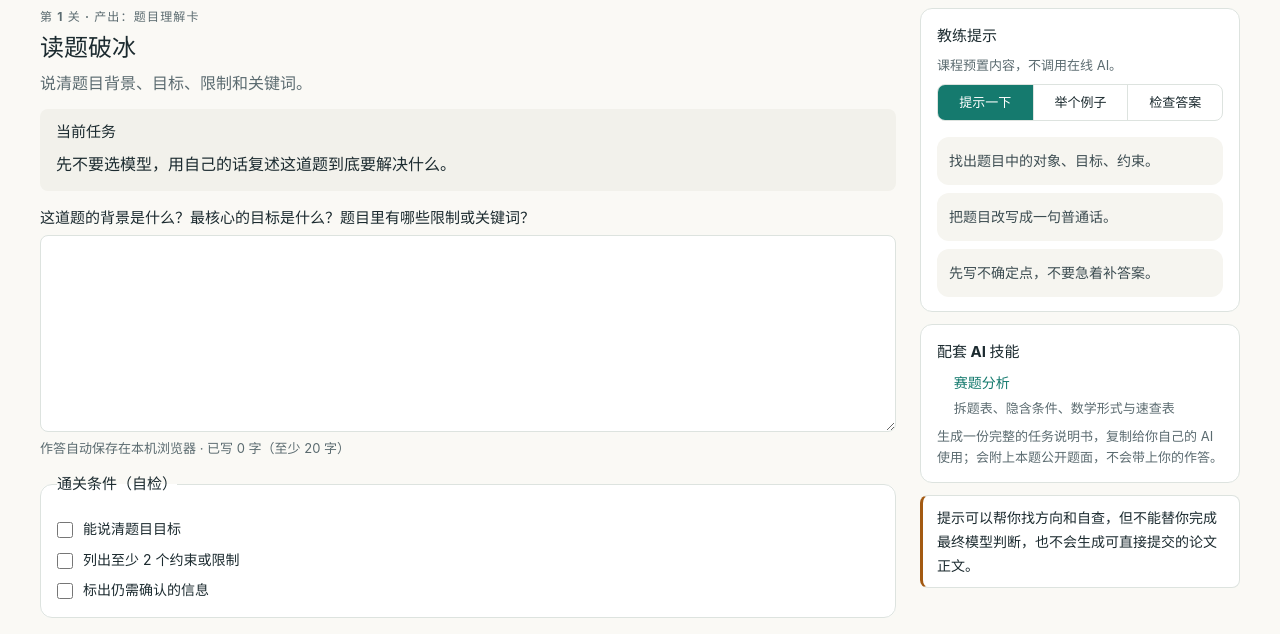
Test: 七关实战 batch 3 › walks one stage end to end: answer, self-check, confirm, move on
(page scrolled)
Type "目标是预测各区域需求并在车辆总数约束下调度；约束有总车数和运营成本；还需确认时间粒度。" into the text box at (468, 334), box left=40, top=235, right=896, bottom=432
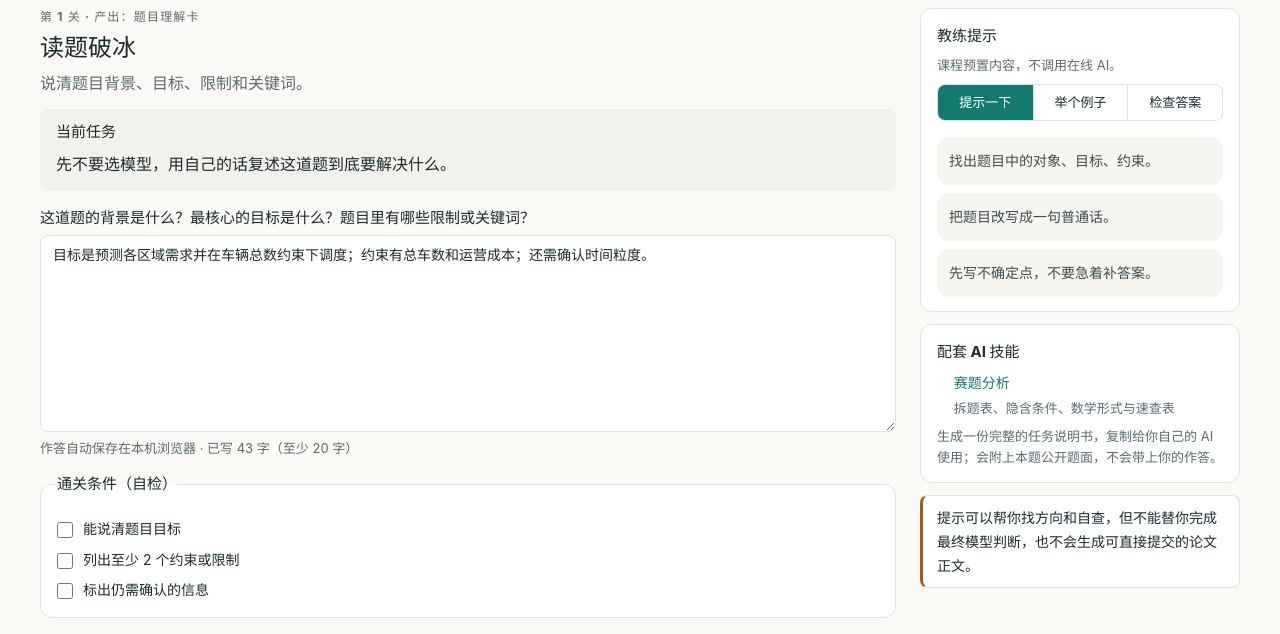
Click the checkbox labelled "能说清题目目标" at (65, 530), box left=57, top=522, right=73, bottom=538
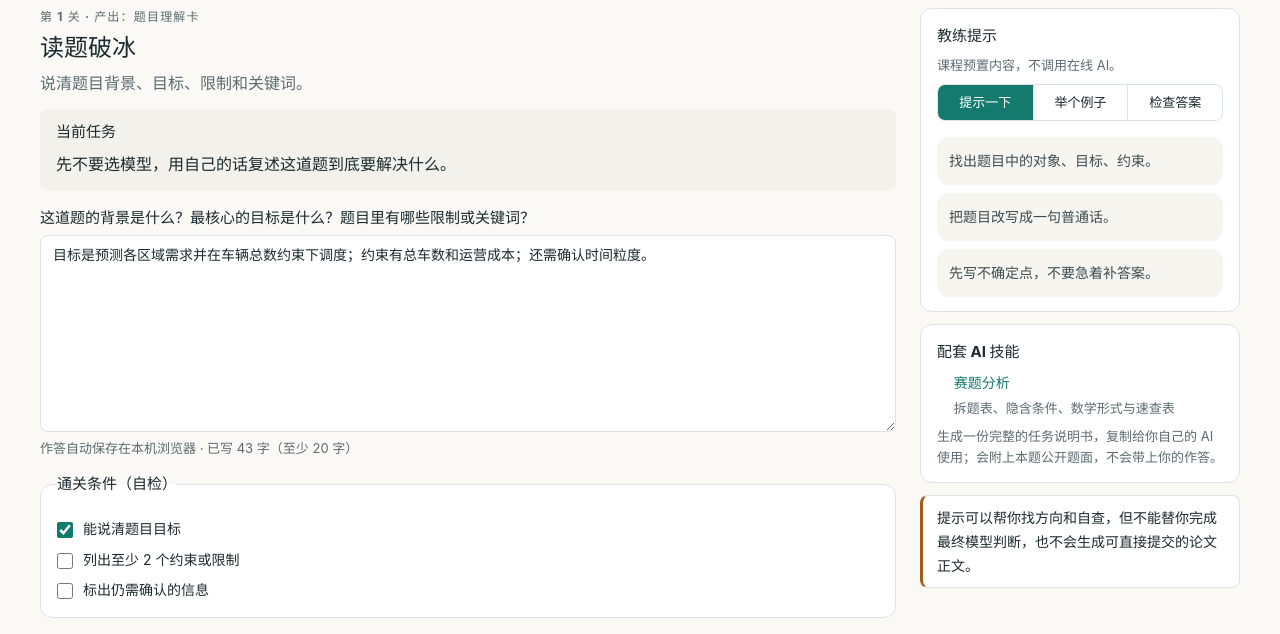
Click the checkbox labelled "列出至少 2 个约束或限制" at (65, 561), box left=57, top=553, right=73, bottom=569
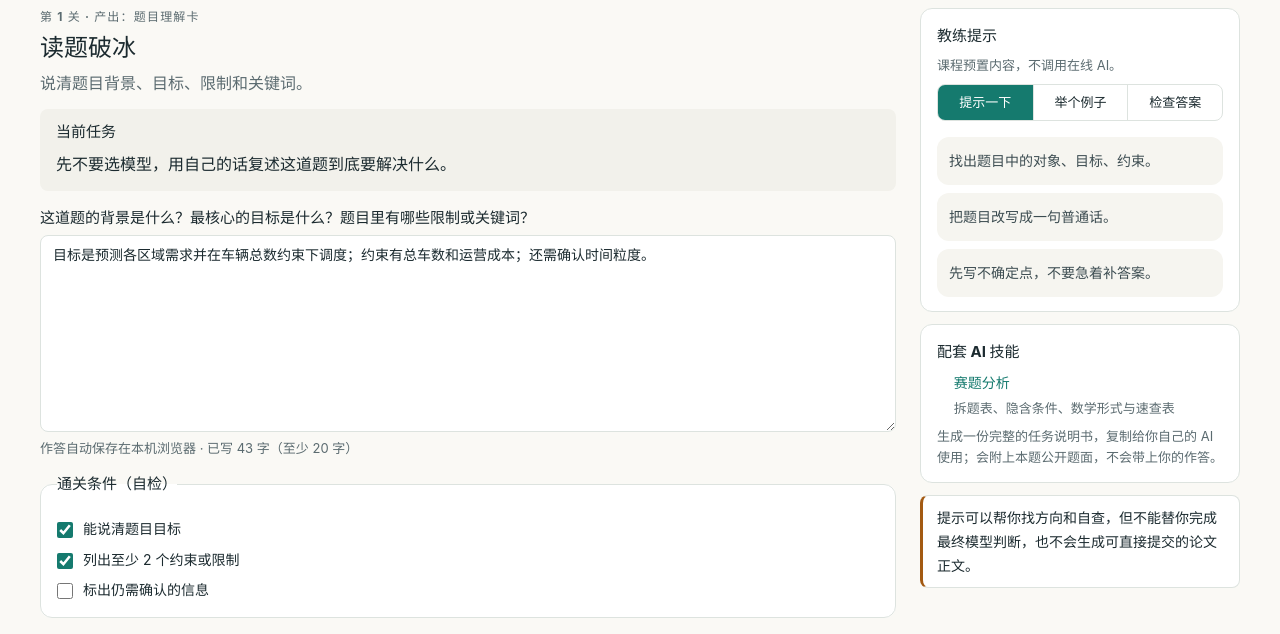
Click the checkbox labelled "标出仍需确认的信息" at (65, 591), box left=57, top=583, right=73, bottom=599
(page scrolled)
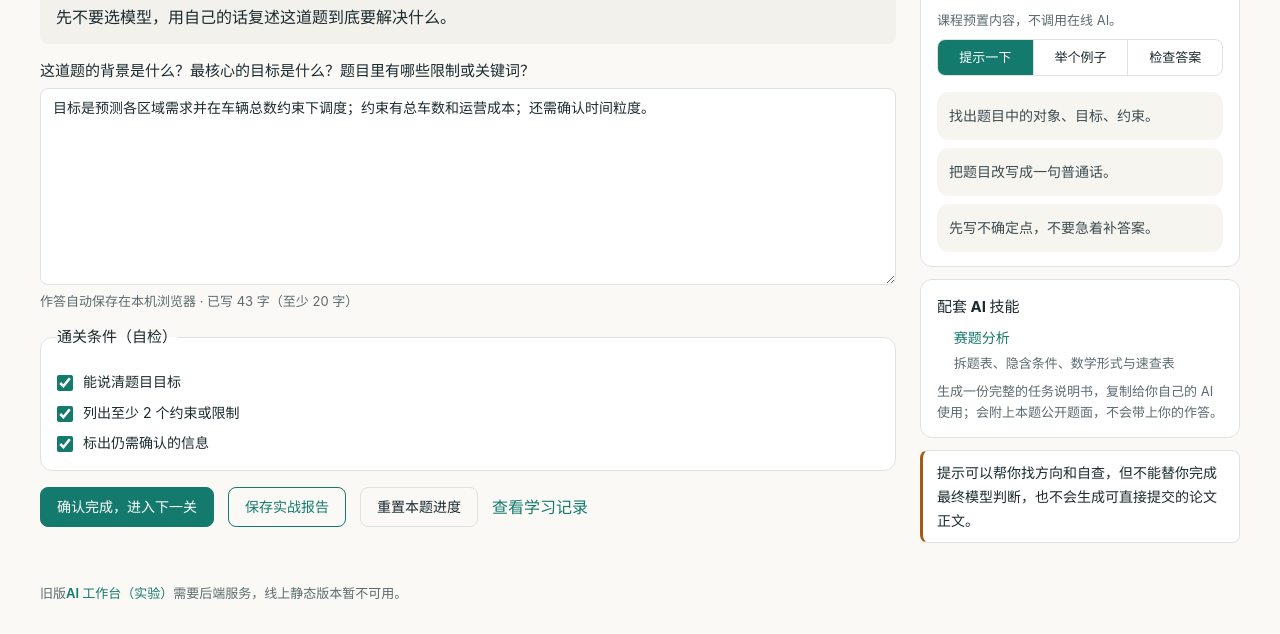
Click the button "确认完成，进入下一关" at (127, 507), box left=40, top=487, right=214, bottom=527
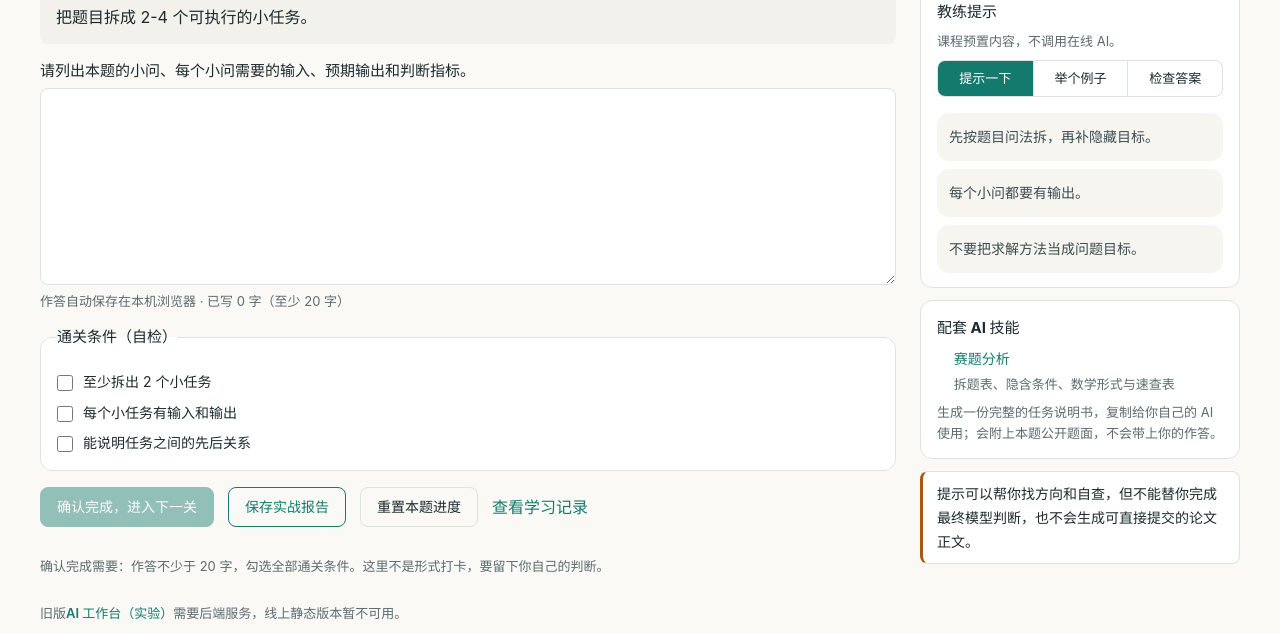
Click the button "保存实战报告" at (287, 507), box left=228, top=487, right=346, bottom=527
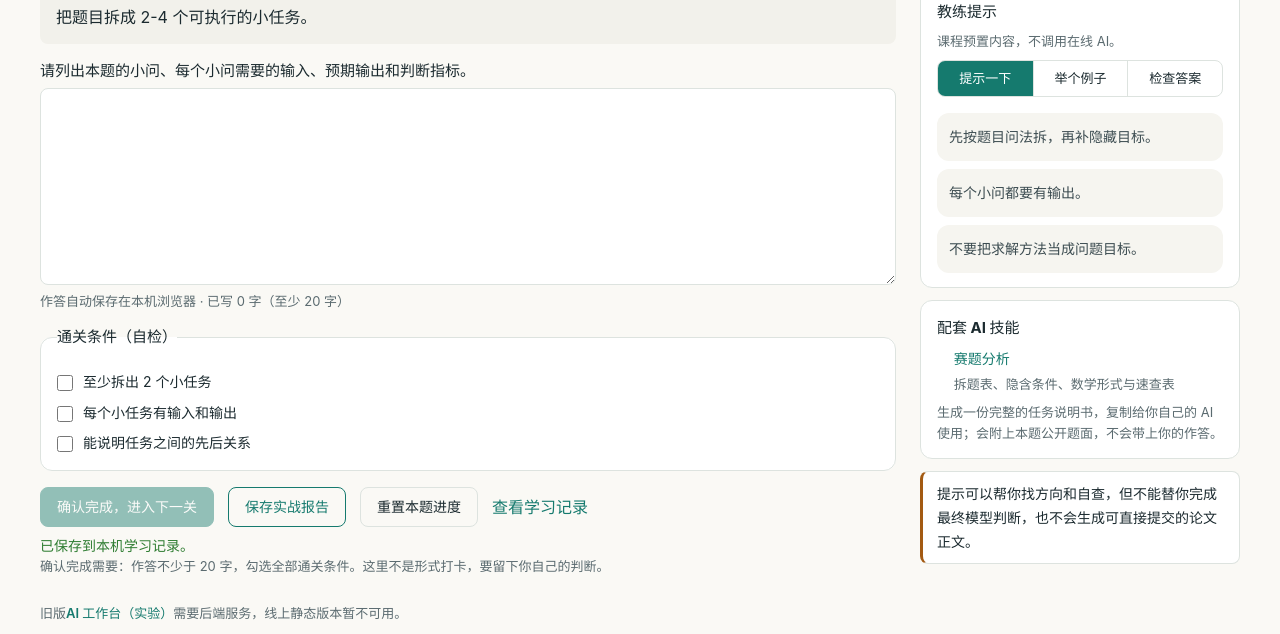
Result: the text "已保存到本机学习记录。" is shown at left=40, top=537, right=194, bottom=554
